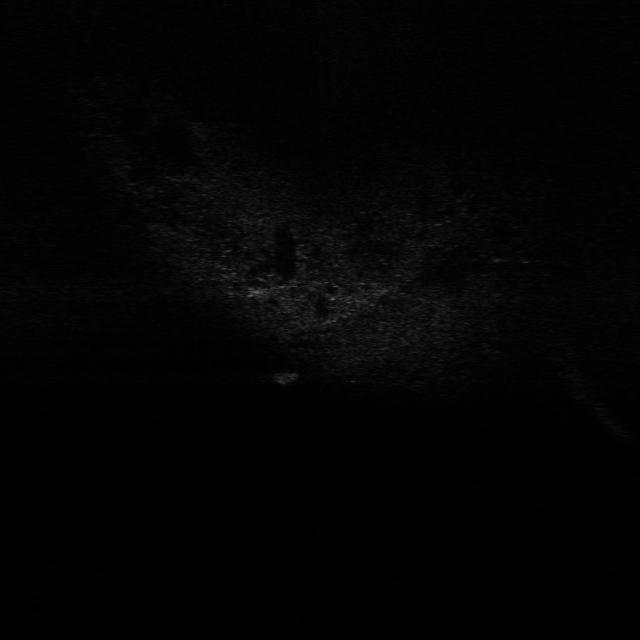cube: (270, 366, 306, 386)
